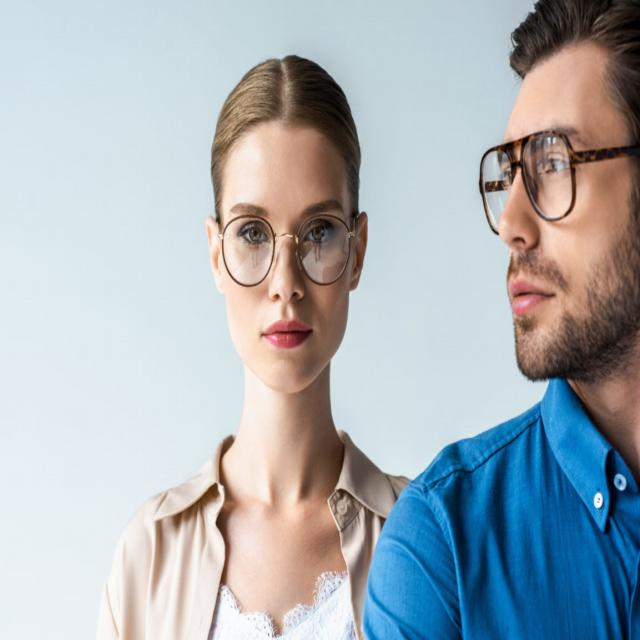Glasses: (475, 125, 635, 241), (215, 210, 358, 290)
